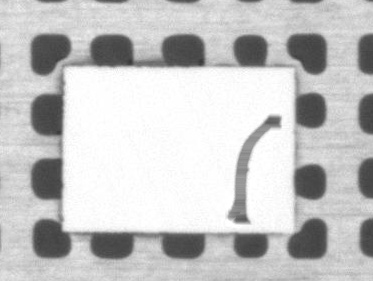DIE_INK: (225, 111, 282, 223)
